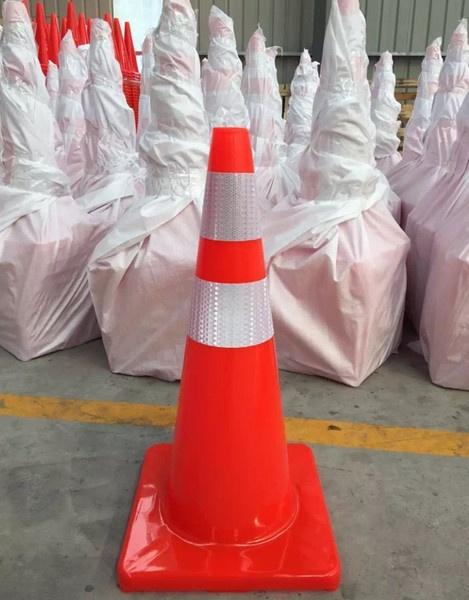cone_barrel: (149, 126, 305, 563)
